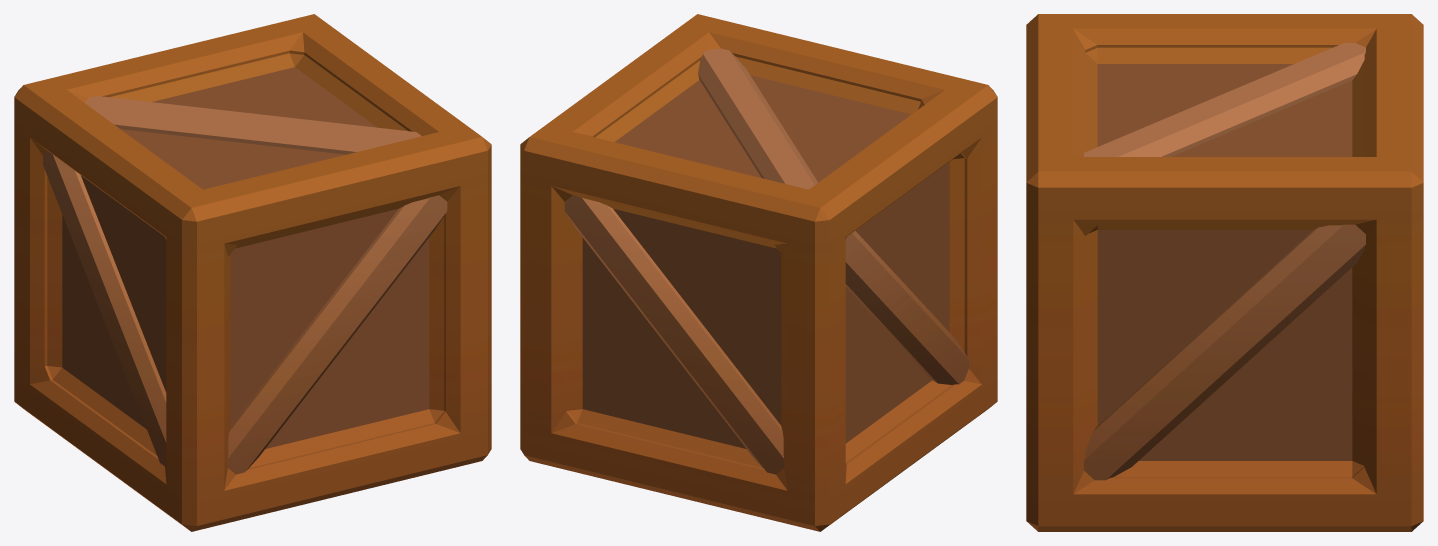
File: hay-harbor-9.glb
The picture shows the model from 3 angles, left to right: view 1: azimuth 30°, elevation 25°; view 2: azimuth 150°, elevation 25°; view 3: azimuth 270°, elevation 25°; orthographic projection. The views are drawn at different scales.
Parts seen in each view (by area): view 1: piece; view 2: piece; view 3: piece.
Boxes of the visible parts, x1,y1,x2,y2 form: piece: (14,14,491,531); piece: (520,14,997,531); piece: (1026,14,1423,531).
Bounding box in the file's own units: 0.6586 × 0.6586 × 0.6586.
1 material, 1 textured.
